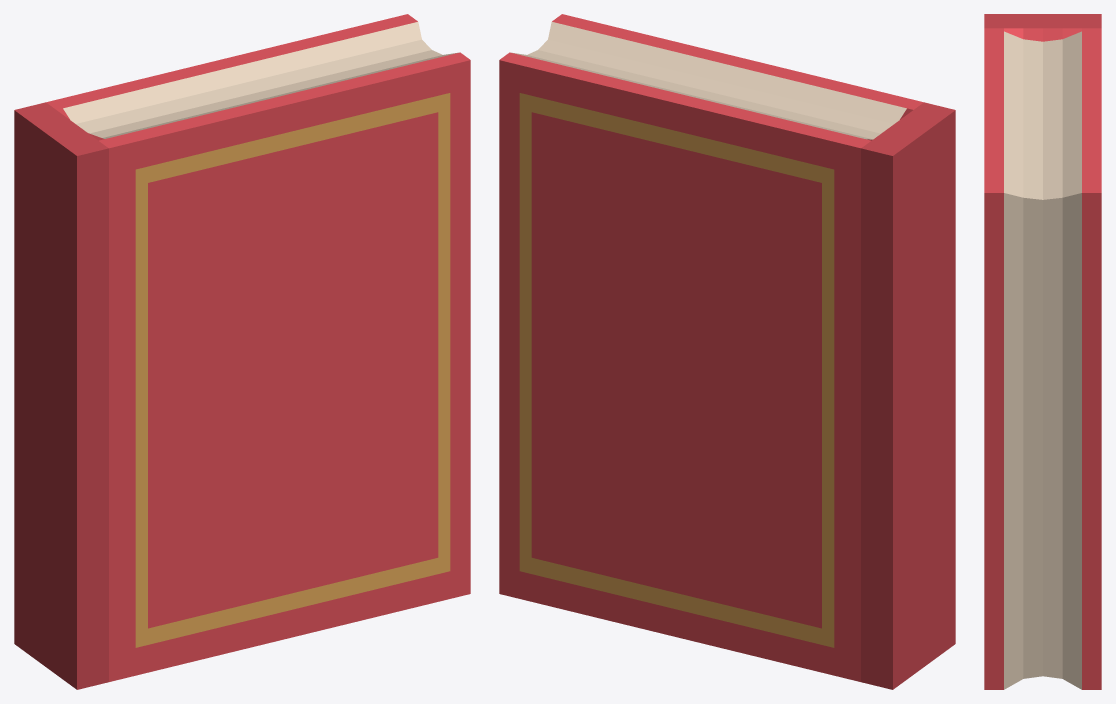
The model's file is Book_Outline.fbx.
3 views of the same model, side by side, from view 1: azimuth 30°, elevation 25°; view 2: azimuth 150°, elevation 25°; view 3: azimuth 270°, elevation 25° (orthographic). The views are drawn at different scales.
Parts seen in each view (by area): view 1: Book_Outline; view 2: Book_Outline; view 3: Book_Outline.
Boxes of the visible parts, x1=… form: Book_Outline: x1=14, y1=14, x2=470, y2=689; Book_Outline: x1=499, y1=14, x2=955, y2=689; Book_Outline: x1=984, y1=14, x2=1101, y2=689.
Size of the model in its own units: 23.64 by 30.63 by 6.55.
